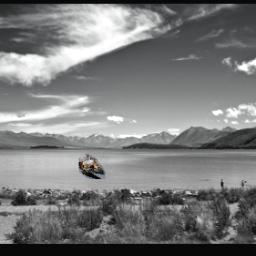Swallow: (79, 155, 105, 180)
